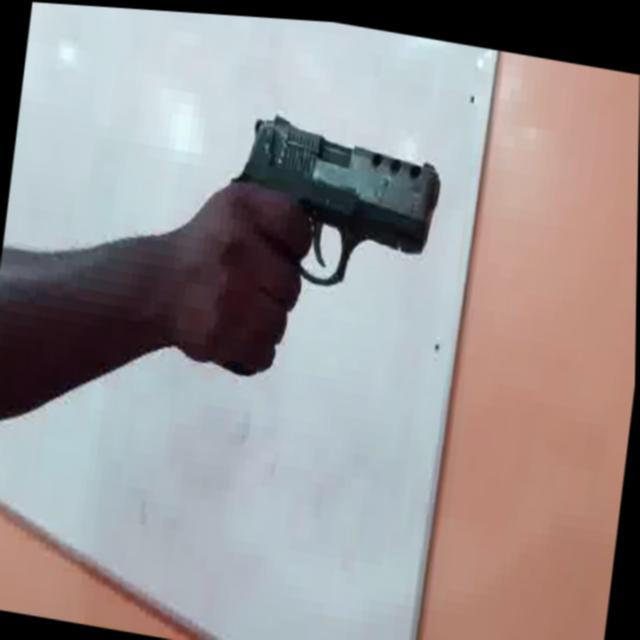weapon: (214, 100, 446, 308)
